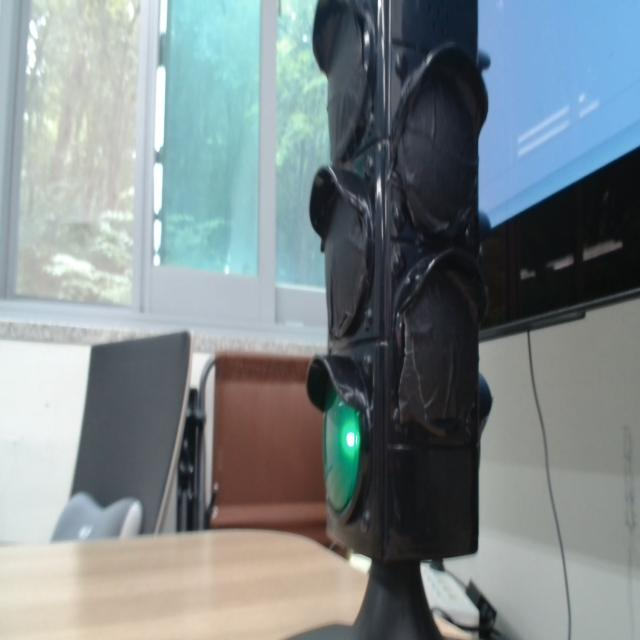green_light: (324, 387, 360, 512)
